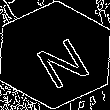N_NW: (21, 23, 89, 87)
